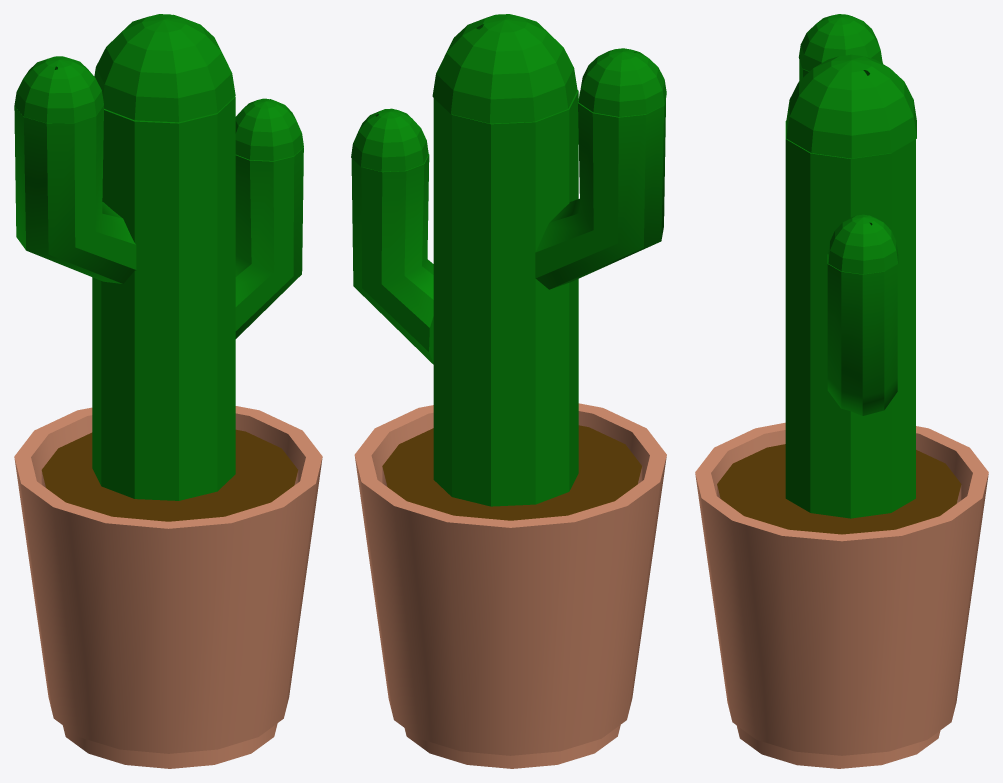
File: cactus.fbx
3 renders of one model, left to right at view 1: azimuth 30°, elevation 25°; view 2: azimuth 150°, elevation 25°; view 3: azimuth 270°, elevation 25°, orthographic. The views are drawn at different scales.
Visible parts, largest first — view 1: pot1; view 2: pot1; view 3: pot1.
Part boxes in pixels (x1,y1,x2,y2): pot1: (14, 14, 322, 768); pot1: (351, 14, 666, 768); pot1: (695, 14, 988, 768).
Size of the model in its own units: 4 by 9.19 by 3.68.
